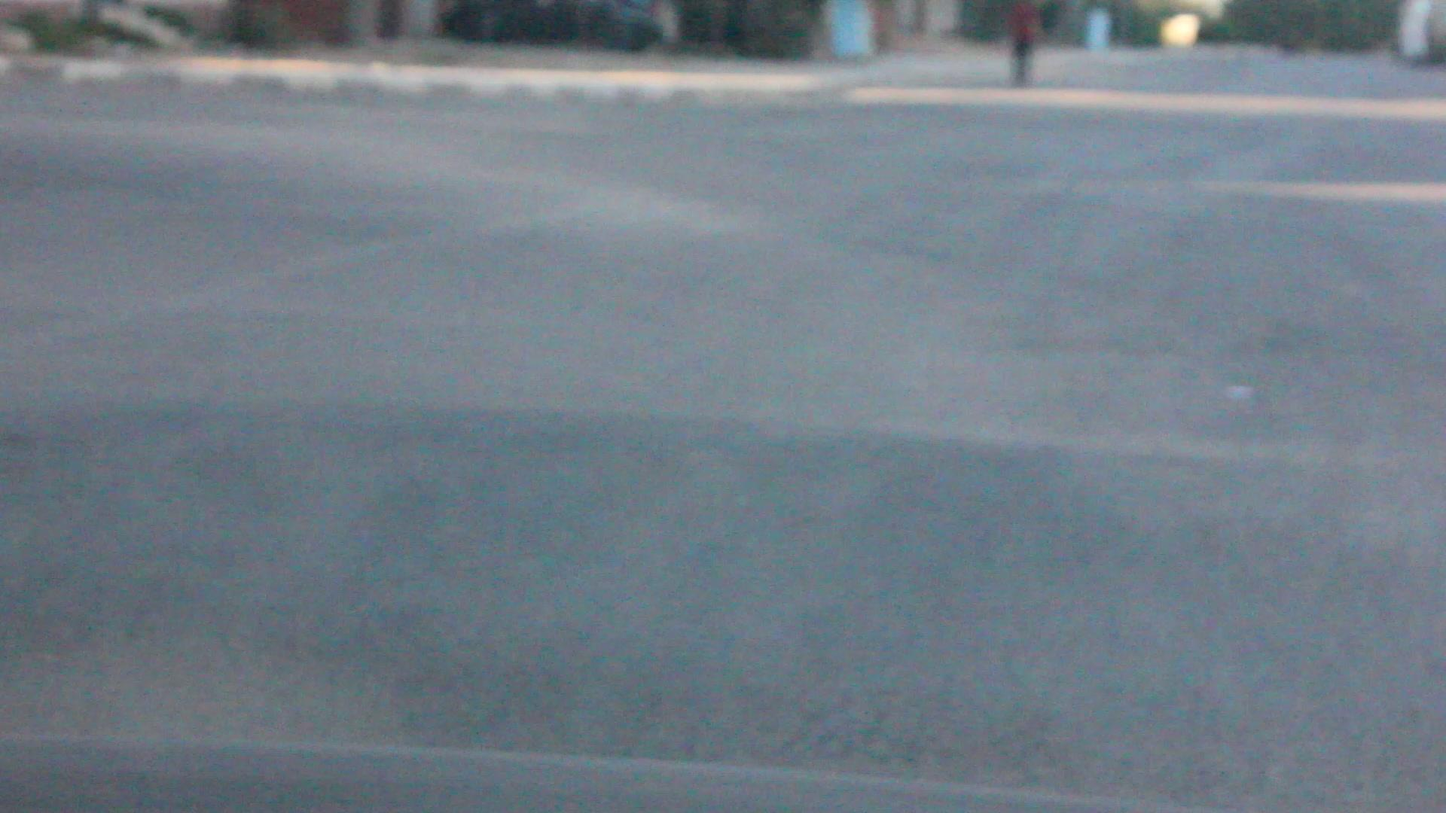Bump: (6, 393, 1446, 578)
